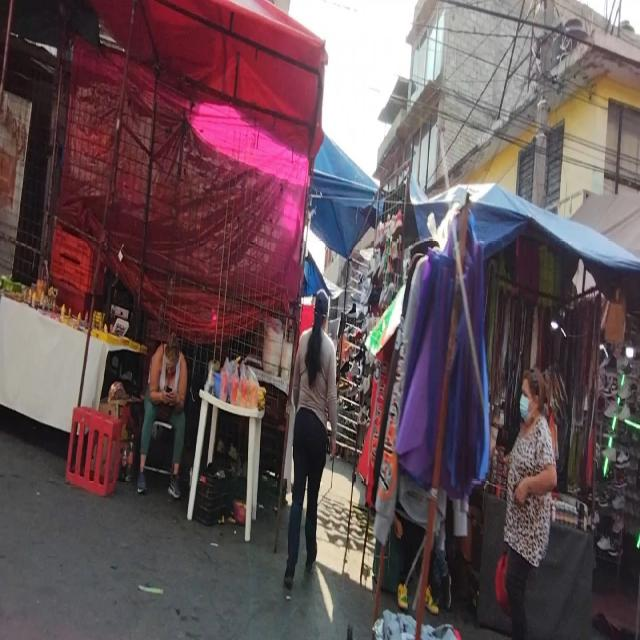adult: (282, 288, 338, 586), (502, 365, 559, 640), (136, 330, 188, 499)
